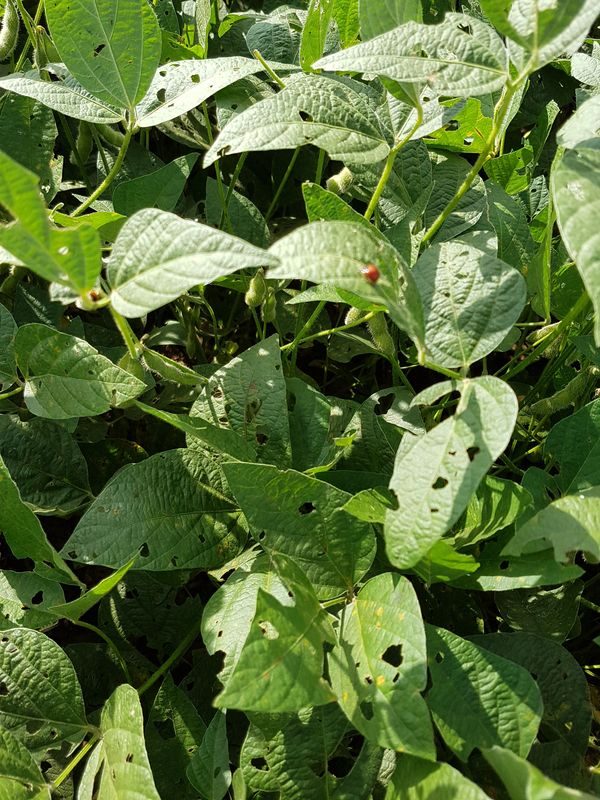Coccinellidae: (354, 259, 383, 288)
